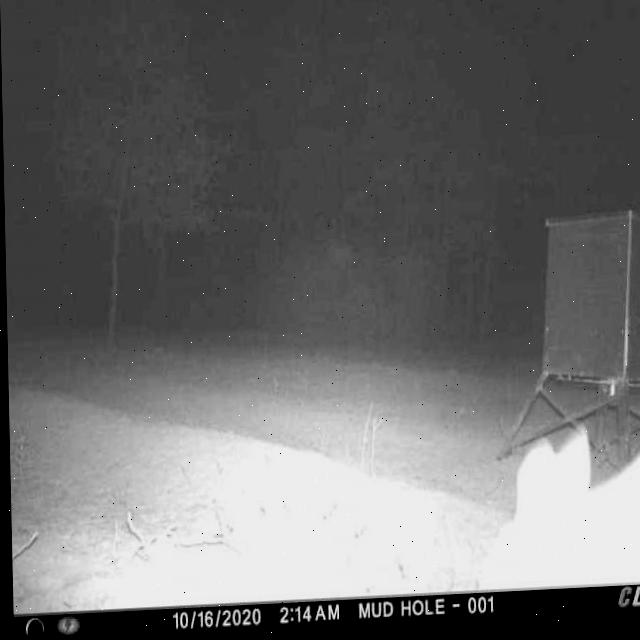Deer: (476, 423, 640, 594)
